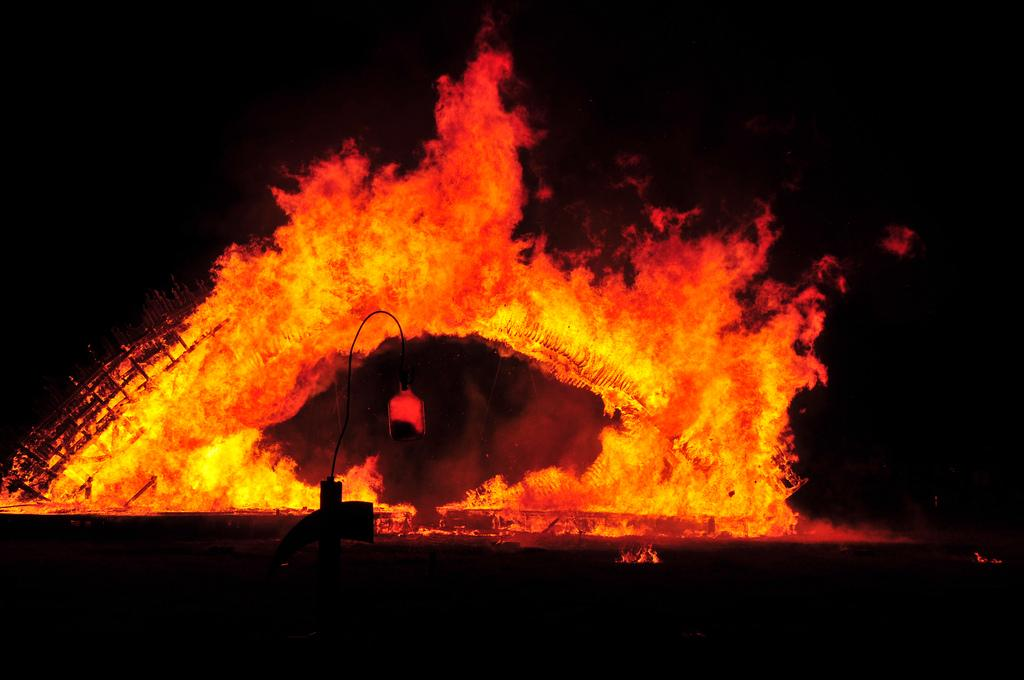fire: (73, 318, 362, 505), (587, 277, 788, 542), (282, 198, 558, 322)
